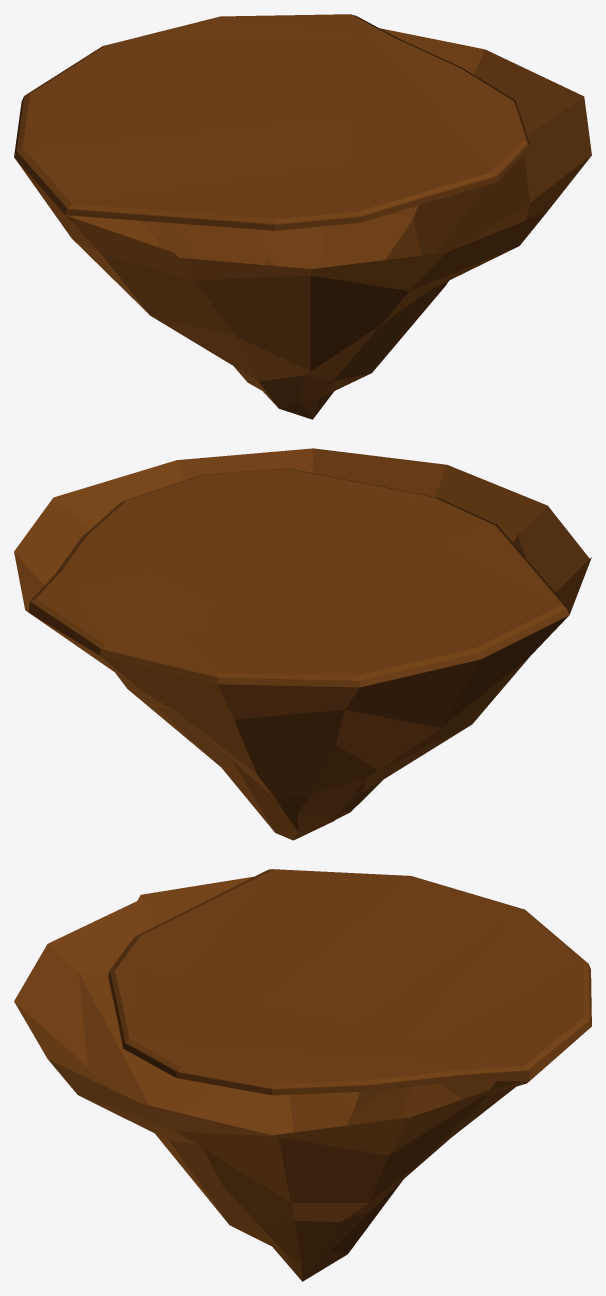
The model's file is Floating-island.glb.
3 renders of one model, top to bottom at view 1: azimuth 30°, elevation 25°; view 2: azimuth 150°, elevation 25°; view 3: azimuth 270°, elevation 25°, orthographic.
Parts seen in each view (by area): view 1: Base.001_1; view 2: Base.001_1; view 3: Base.001_1.
Boxes of the visible parts, bbox=[...] form: Base.001_1: bbox=[14, 14, 591, 419]; Base.001_1: bbox=[14, 448, 591, 840]; Base.001_1: bbox=[14, 869, 591, 1281].
Size of the model in its own units: 4.85 by 2.59 by 4.67.
